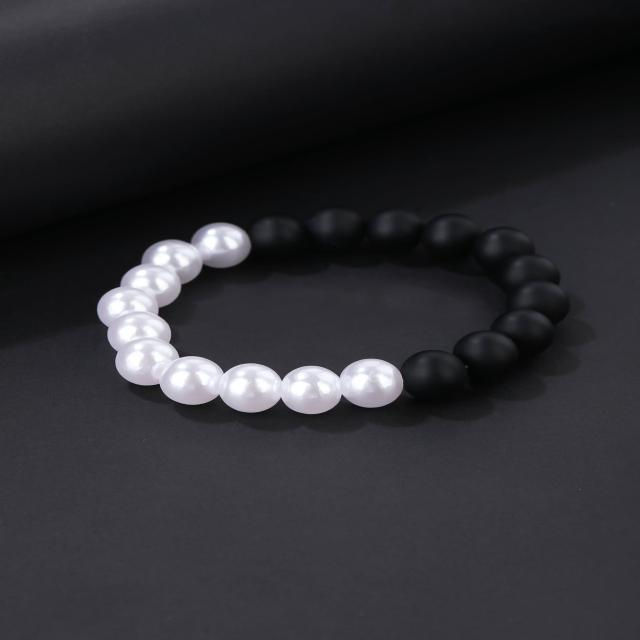bracelet: (74, 159, 626, 453)
